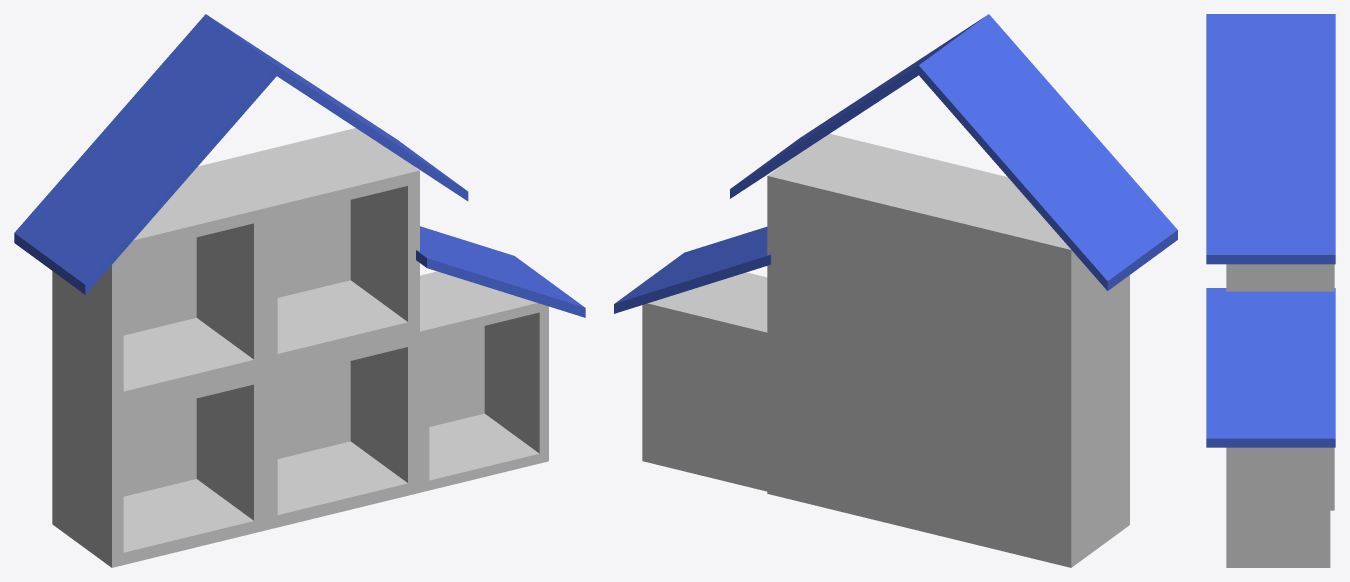
Rendered from Casinha.fbx.
3 views of the same model, side by side, from view 1: azimuth 30°, elevation 25°; view 2: azimuth 150°, elevation 25°; view 3: azimuth 270°, elevation 25° (orthographic). The views are drawn at different scales.
Parts seen in each view (by area): view 1: Plane.002; view 2: Plane.002; view 3: Plane.002.
Part boxes in pixels (x1,y1,x2,y2): Plane.002: (14,14,585,567); Plane.002: (614,14,1177,567); Plane.002: (1206,14,1335,567).
Size of the model in its own units: 325 by 293 by 80.01.
